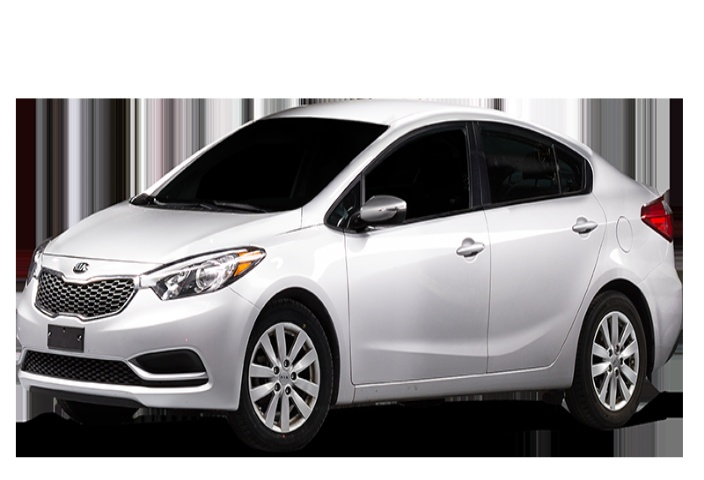car: (26, 101, 677, 424)
